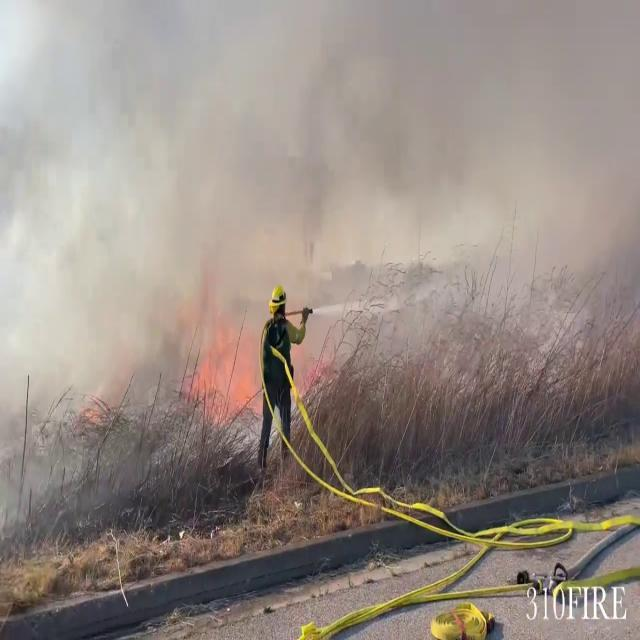Fire: (200, 284, 264, 431)
Smoke: (1, 0, 636, 390)
